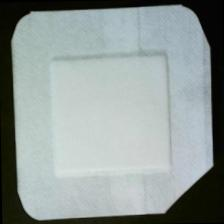Cut: (10, 3, 219, 222)
